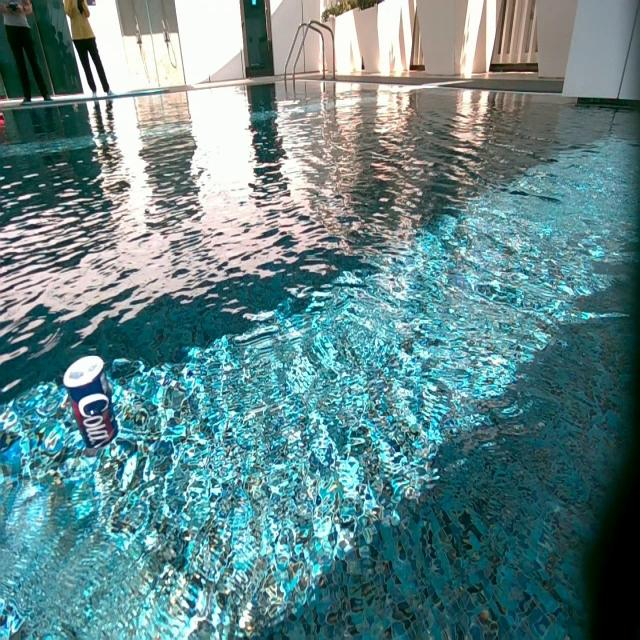Cans: (62, 351, 116, 445), (0, 115, 6, 129), (73, 103, 79, 113)
